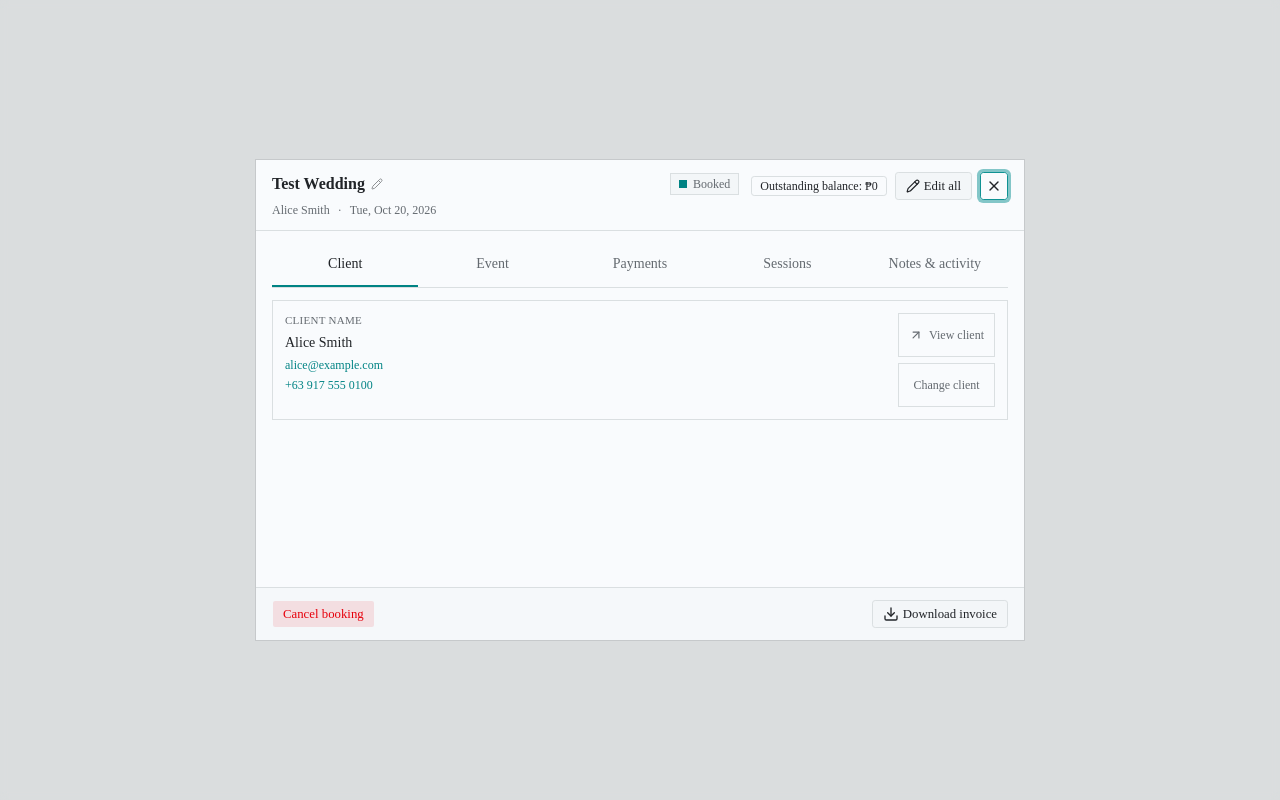
Scenario: Incomplete business warning › shows the incomplete-business warning dialog instead of downloading when business info is incomplete
Expected: the heading "Test Wedding" is shown, [272,172,383,196]
Click the tab "Sessions" at (787, 265), box [714,243,861,287]
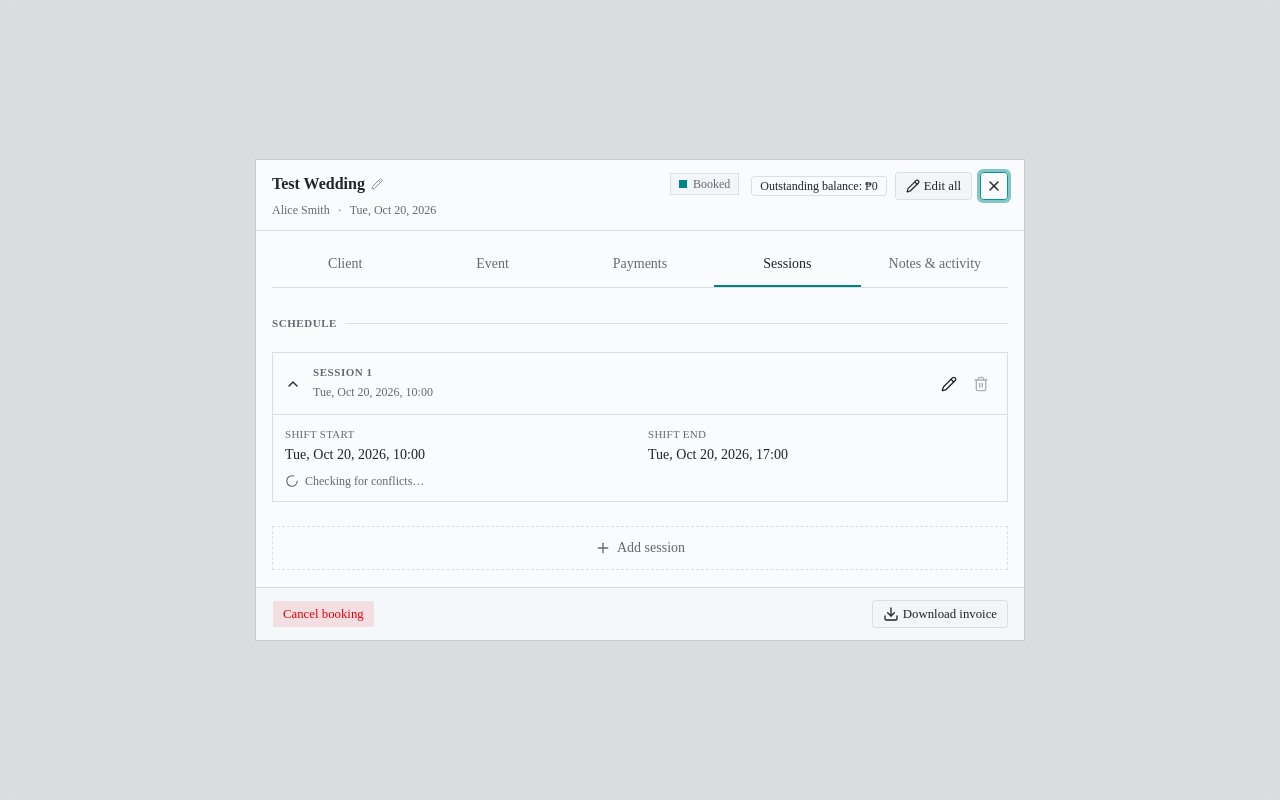
Click the button "Download invoice" at (940, 614), box [872,600,1008,628]
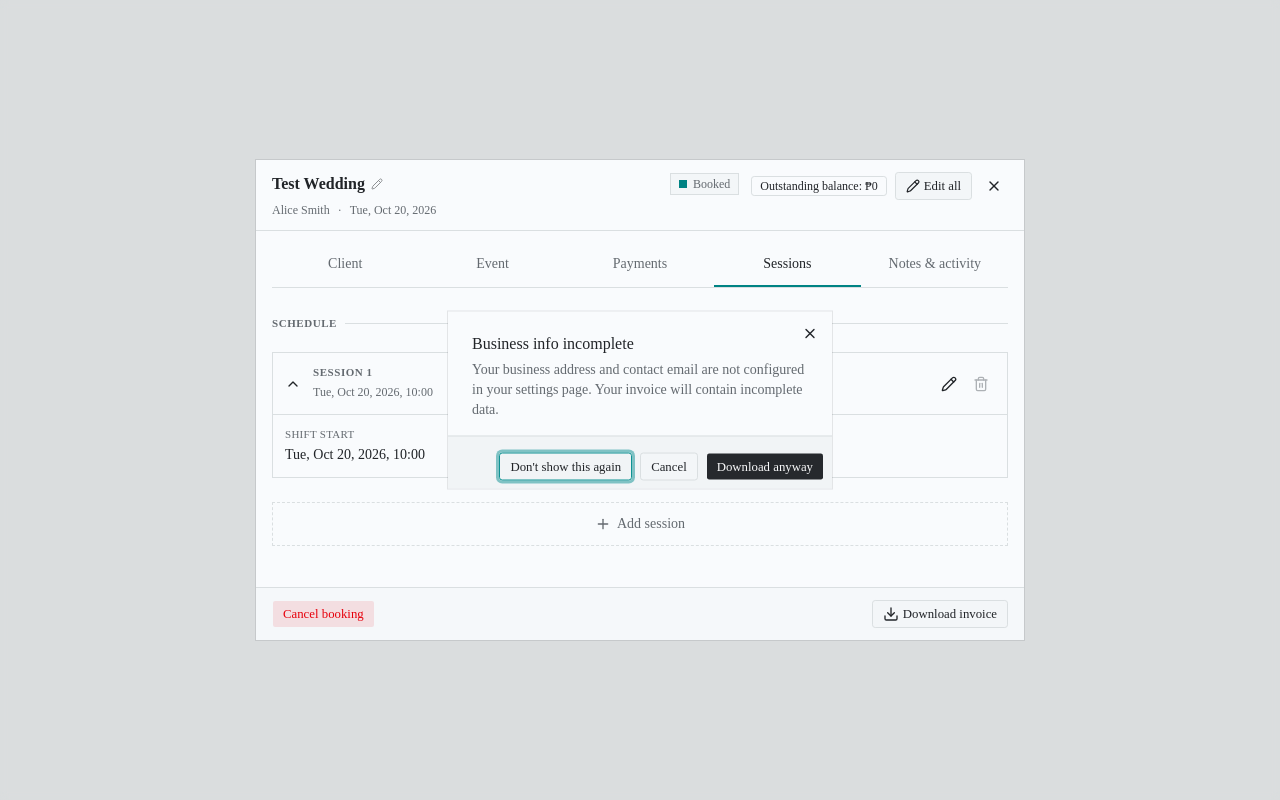
Expected: the heading "Business info incomplete" is shown, [472,334,634,352]
